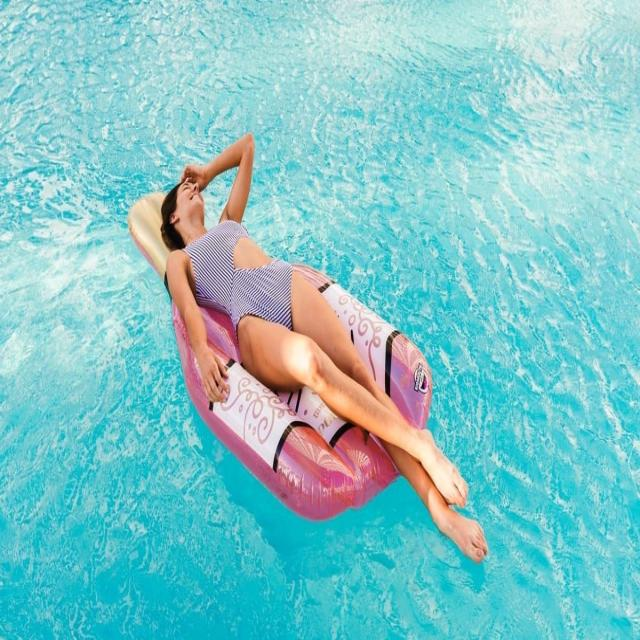adult: (161, 131, 489, 562)
